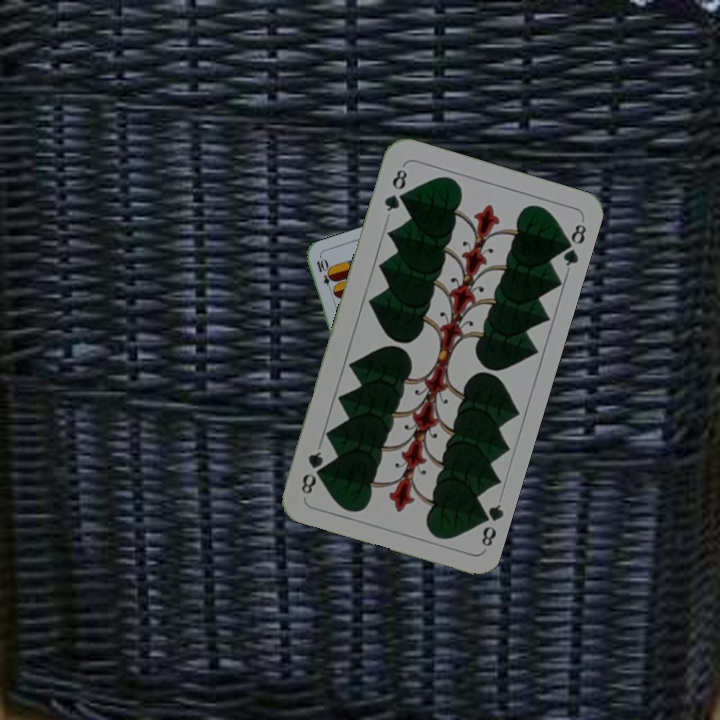E10: (312, 255, 336, 295)
G8: (473, 500, 506, 549), (380, 165, 410, 214)
